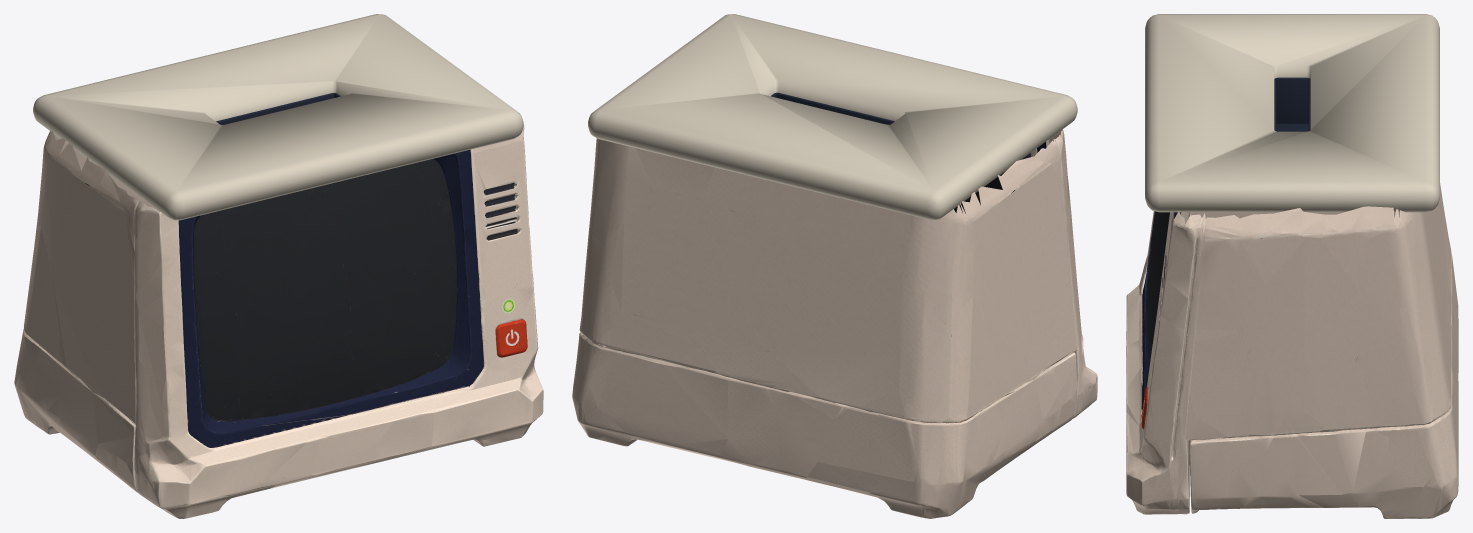
File: console.glb
3 renders of one model, left to right at view 1: azimuth 30°, elevation 25°; view 2: azimuth 150°, elevation 25°; view 3: azimuth 270°, elevation 25°, orthographic. The views are drawn at different scales.
Visible parts, largest first — view 1: Meshy_Ultra_Case, Moulded_top_with_open_slot, Power_button_generated, Slot_lining_back; view 2: Meshy_Ultra_Case, Moulded_top_with_open_slot, Slot_lining_front; view 3: Meshy_Ultra_Case, Moulded_top_with_open_slot, Slot_lining_left, Power_button_generated.
Boxes of the visible parts, box(x1,y1,x2,y2) form: Meshy_Ultra_Case: box(14, 124, 543, 518); Moulded_top_with_open_slot: box(33, 14, 523, 220); Power_button_generated: box(467, 314, 538, 389); Slot_lining_back: box(216, 93, 334, 124); Meshy_Ultra_Case: box(572, 129, 1097, 518); Moulded_top_with_open_slot: box(588, 14, 1077, 219); Slot_lining_front: box(776, 92, 894, 124); Meshy_Ultra_Case: box(1126, 183, 1458, 518); Moulded_top_with_open_slot: box(1145, 14, 1439, 212); Slot_lining_left: box(1276, 77, 1308, 123); Power_button_generated: box(1139, 380, 1174, 462).
Size of the model in its own units: 3.35 by 2.64 by 2.39.
Materials: 3 (1 with a texture image).
